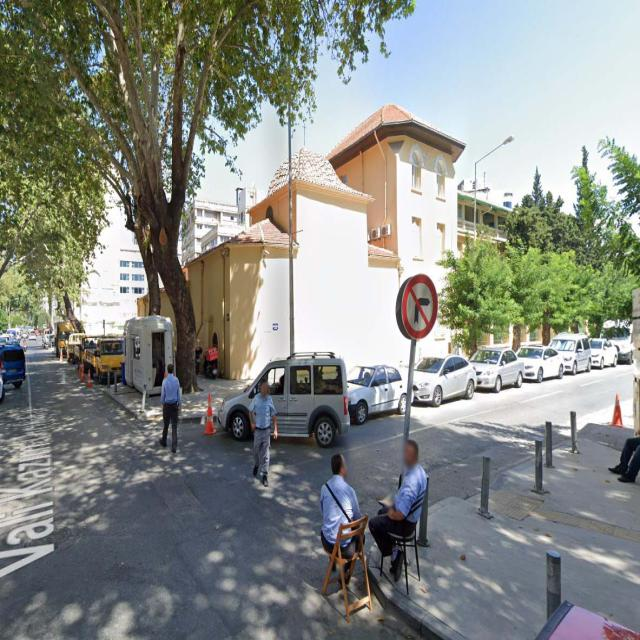sagadonulmez: (403, 272, 437, 344)
